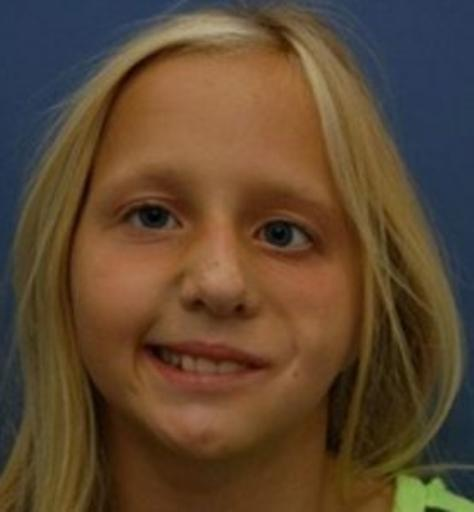left_eye: (249, 217, 321, 255)
left_lip_corner: (258, 356, 277, 381)
right_eye: (117, 203, 187, 235)
right_lip_corner: (137, 336, 156, 362)
